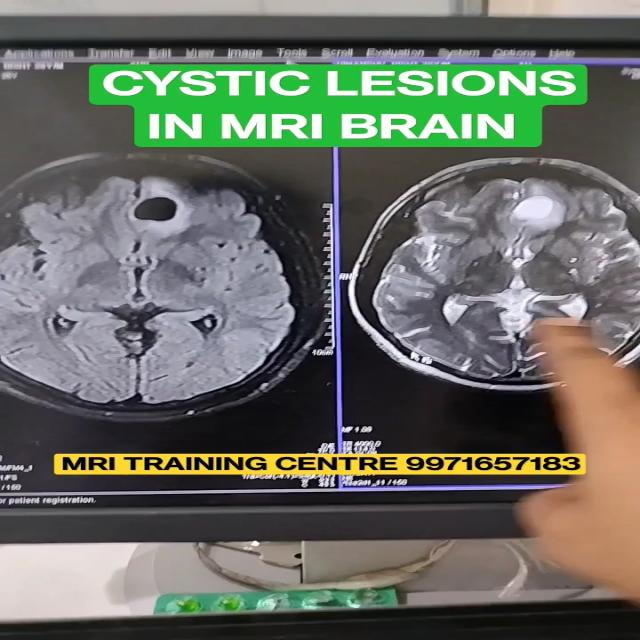tumor: (105, 187, 223, 241), (490, 179, 573, 232)
